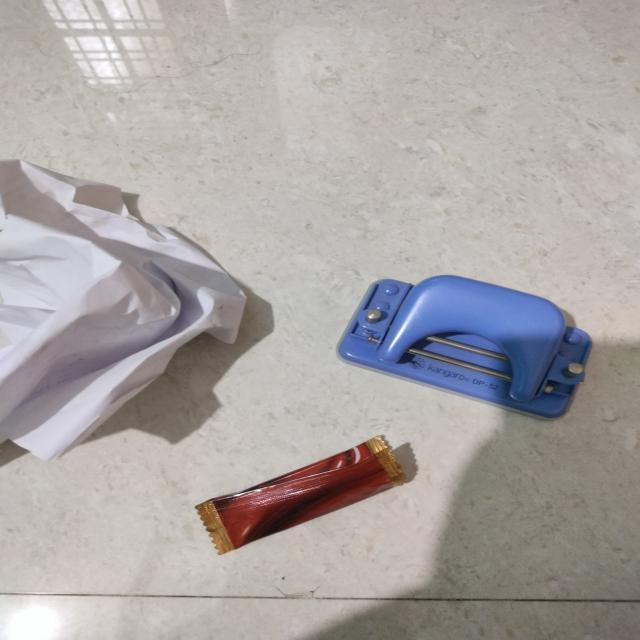dry: (0, 156, 249, 460), (336, 274, 591, 419), (196, 435, 408, 555)
